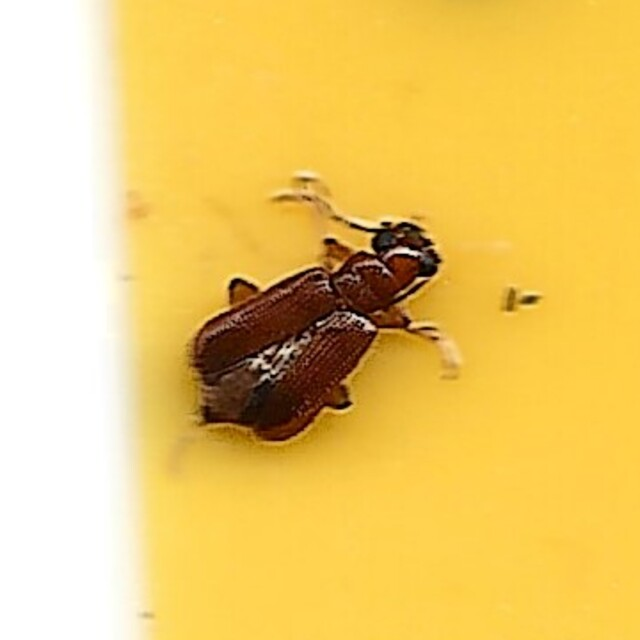Coleoptera: (178, 166, 462, 474)
